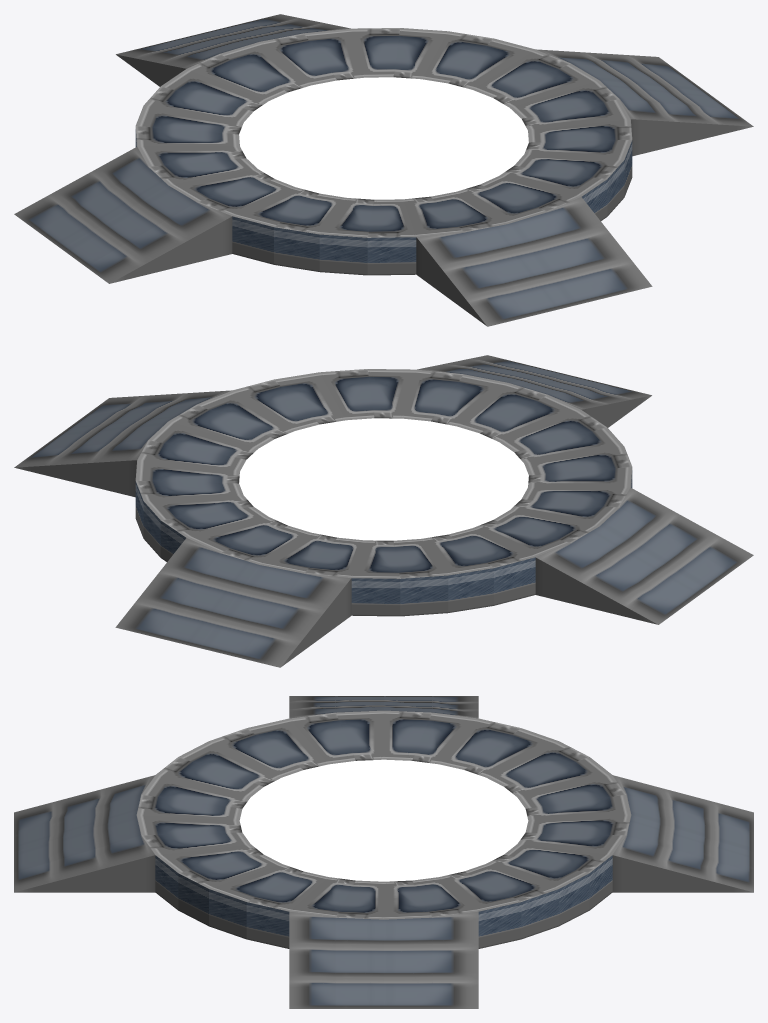
The model's file is teleportation_base.glb.
The picture shows the model from 3 angles, top to bottom: view 1: azimuth 30°, elevation 25°; view 2: azimuth 150°, elevation 25°; view 3: azimuth 270°, elevation 25°; orthographic projection.
Visible parts, largest first — view 1: TeleportationBase; view 2: TeleportationBase; view 3: TeleportationBase.
Boxes of the visible parts, x1,y1,x2,y2 form: TeleportationBase: (14,14,753,326); TeleportationBase: (14,355,753,667); TeleportationBase: (14,696,753,1008).
Size of the model in its own units: 3.59 by 0.2 by 3.59.
Materials: 2 (1 with a texture image).
